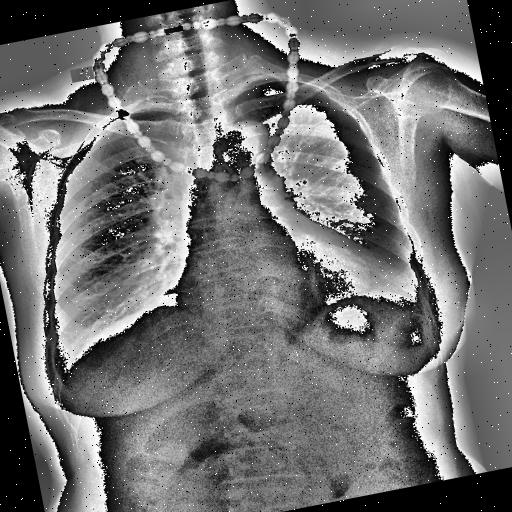0- Aortic enlargement: (214, 116, 278, 184), (210, 116, 274, 171), (232, 114, 272, 160)
3- Cardiomegaly: (152, 235, 378, 336), (168, 238, 379, 332), (166, 242, 380, 328)
